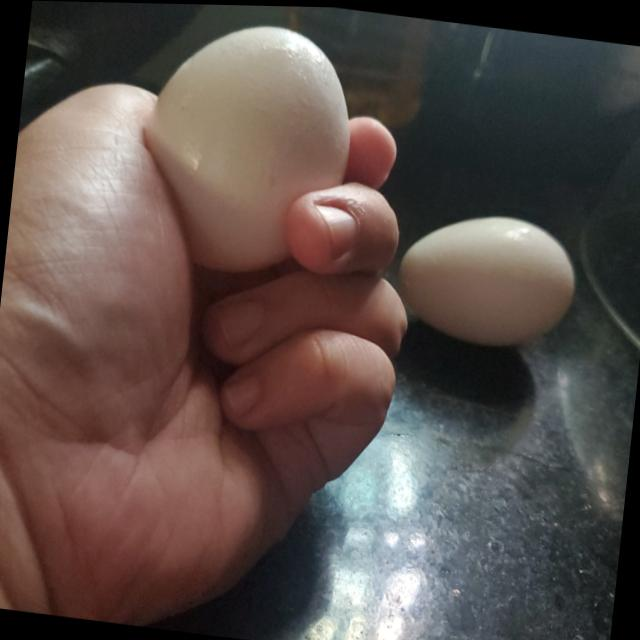egg: (140, 15, 362, 279), (392, 204, 576, 352)
